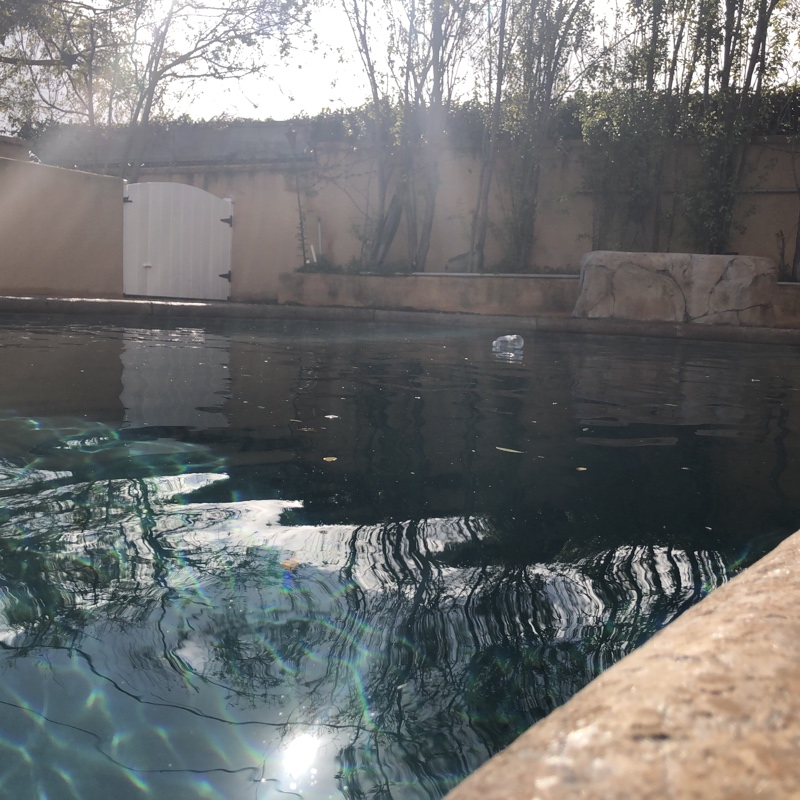Plastic Bottle: (492, 333, 524, 354)
